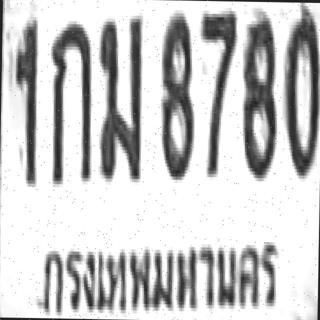A01: (47, 21, 92, 184)
A33: (96, 12, 143, 182)
N00: (281, 7, 320, 177)
N01: (11, 17, 38, 187)
N07: (198, 9, 236, 179), (198, 7, 236, 123)
N08: (158, 10, 196, 180), (240, 9, 277, 180)
P04: (37, 225, 284, 320)
